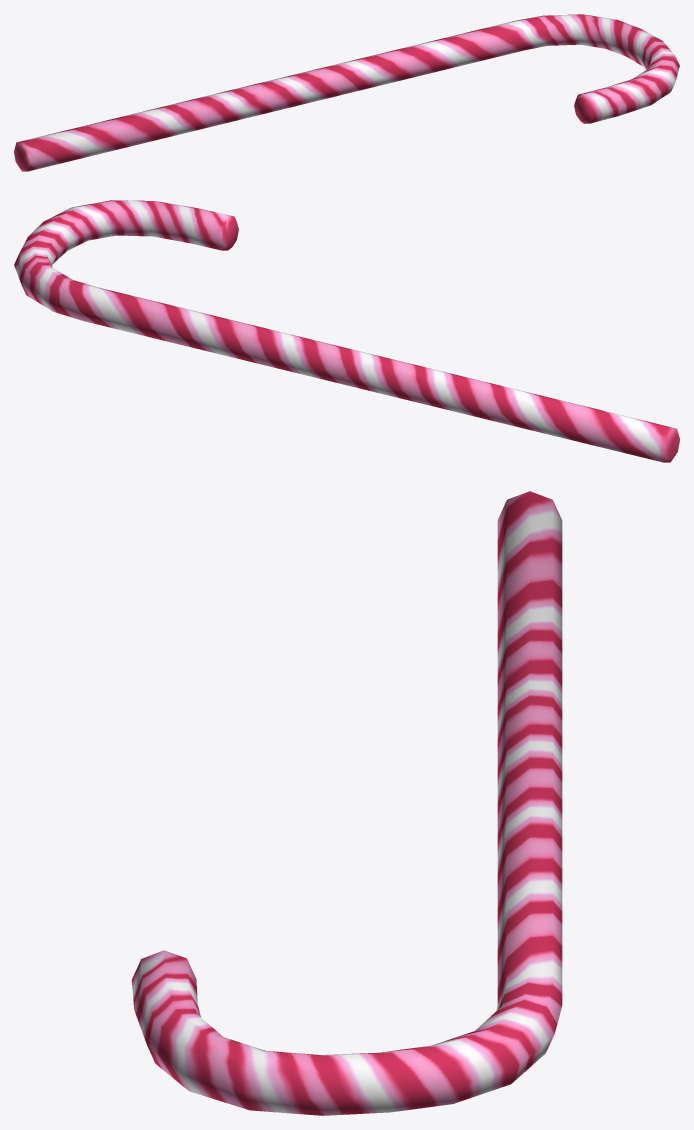
Rendered from CHP_MOD_Candy_cane_pink.fbx.
3 renders of one model, top to bottom at view 1: azimuth 30°, elevation 25°; view 2: azimuth 150°, elevation 25°; view 3: azimuth 270°, elevation 25°, orthographic. The views are drawn at different scales.
Parts seen in each view (by area): view 1: CHP_MOD_Candy_cane_pink; view 2: CHP_MOD_Candy_cane_pink; view 3: CHP_MOD_Candy_cane_pink.
Boxes of the visible parts, x1,y1,x2,y2 form: CHP_MOD_Candy_cane_pink: (14,14,679,171); CHP_MOD_Candy_cane_pink: (14,200,679,462); CHP_MOD_Candy_cane_pink: (131,491,562,1115).
Bounding box in the file's own units: 1.18 × 0.0557 × 0.3706.
